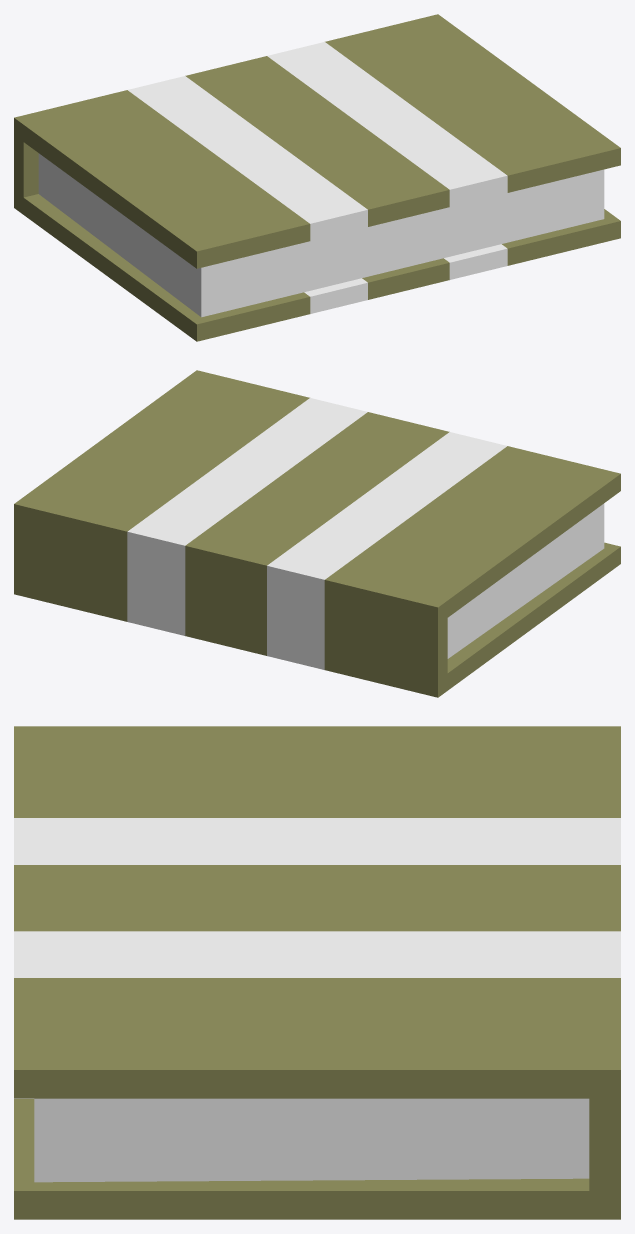
The model's file is Book_11.fbx.
3 renders of one model, top to bottom at view 1: azimuth 30°, elevation 25°; view 2: azimuth 150°, elevation 25°; view 3: azimuth 270°, elevation 25°, orthographic. The views are drawn at different scales.
Parts seen in each view (by area): view 1: Book_11; view 2: Book_11; view 3: Book_11.
Part boxes in pixels (box(x1,y1,x2,y2)): Book_11: box(14, 14, 620, 341); Book_11: box(14, 370, 620, 697); Book_11: box(14, 726, 620, 1219).
Bounding box in the file's own units: 0.2273 × 0.0462 × 0.1697.
